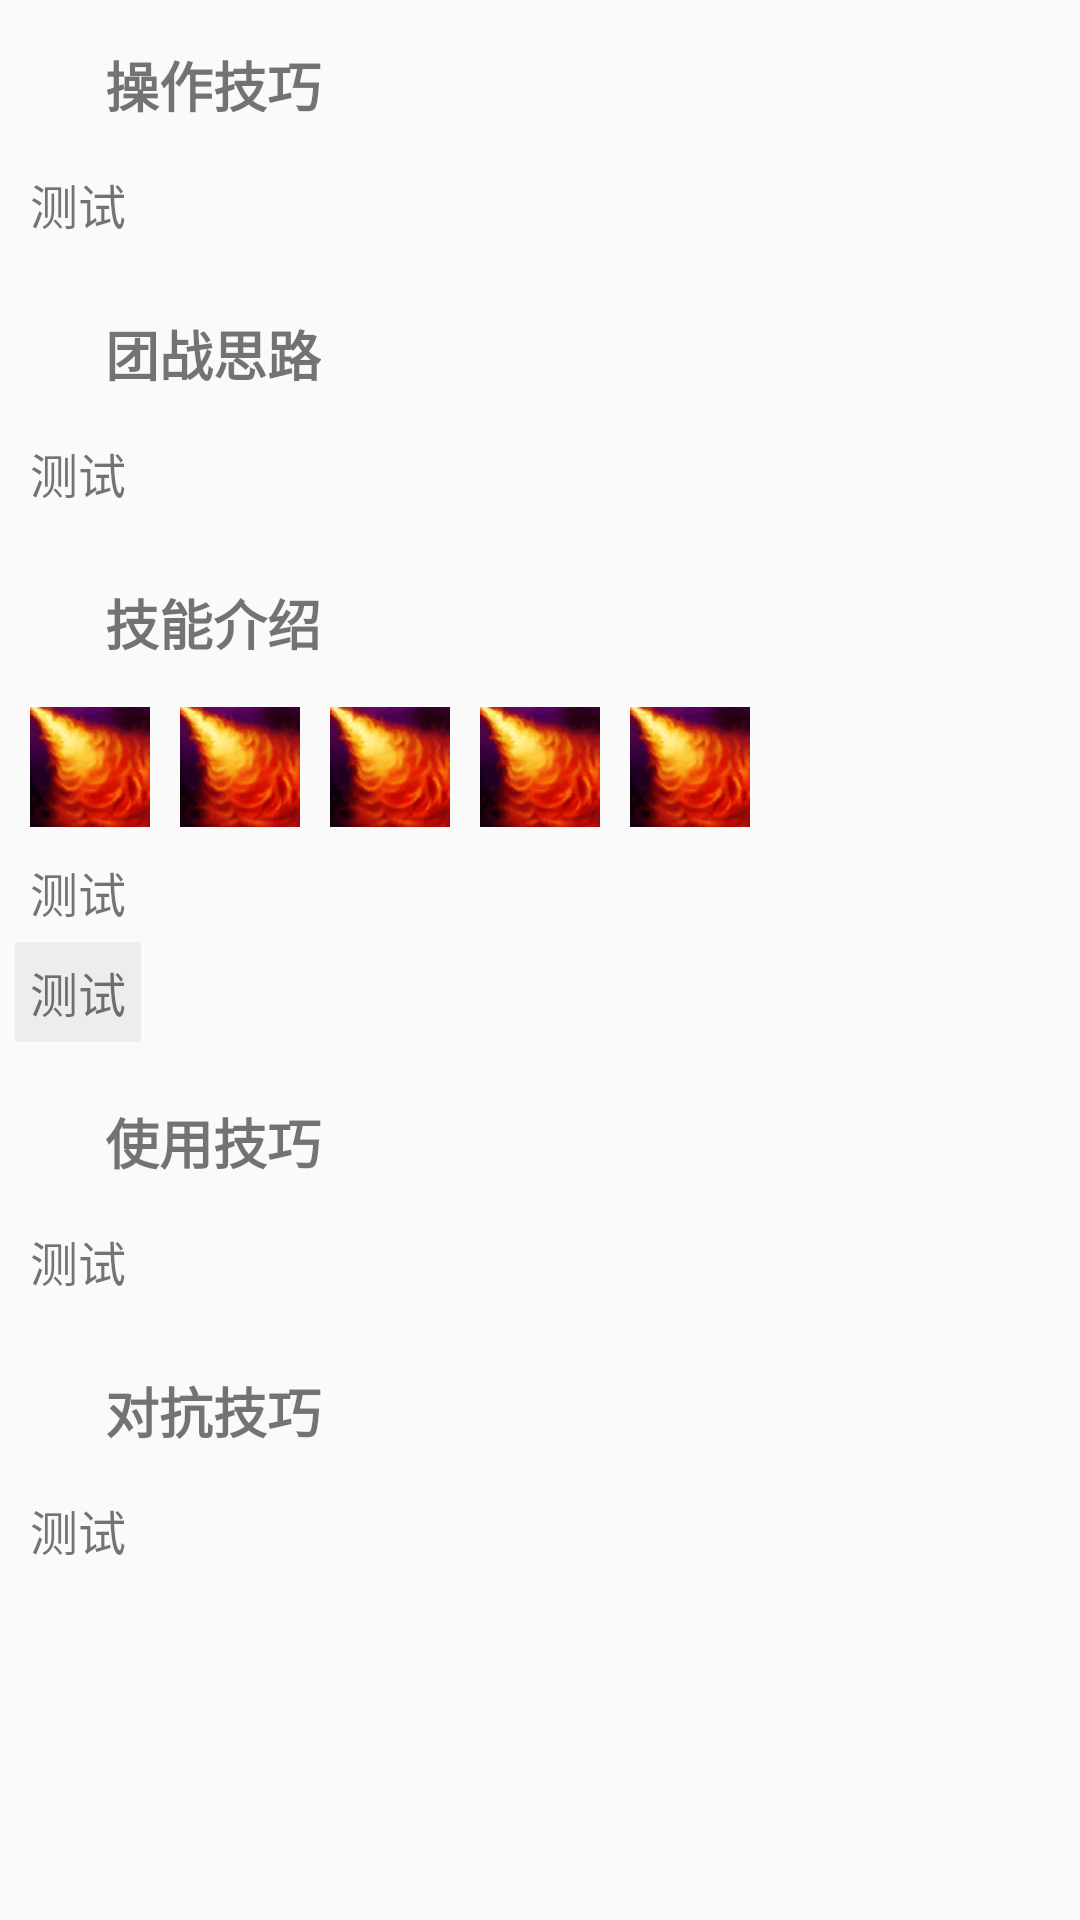

Point at icon controls on the screen. Image size 1080 × 1920, points as point (x, y).
skill: point (90, 767), point (240, 767), point (390, 767), point (540, 767), point (690, 767)
